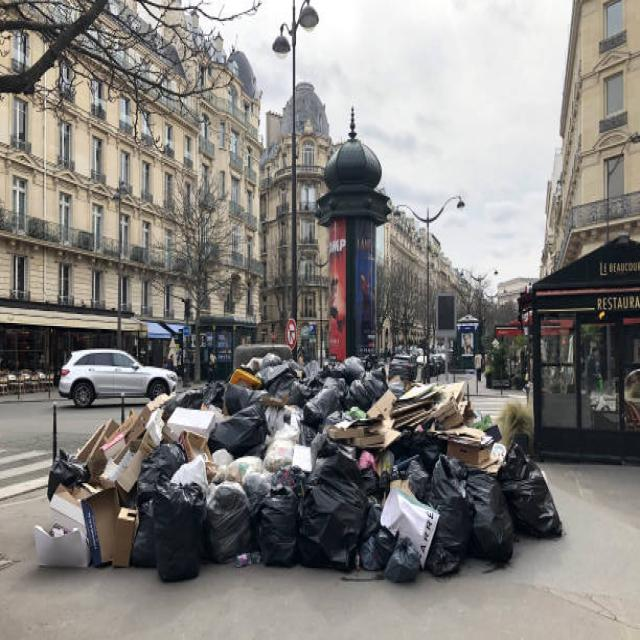cardboard: (30, 399, 160, 601), (326, 377, 466, 459)
trash: (164, 482, 369, 580), (291, 365, 371, 416)
